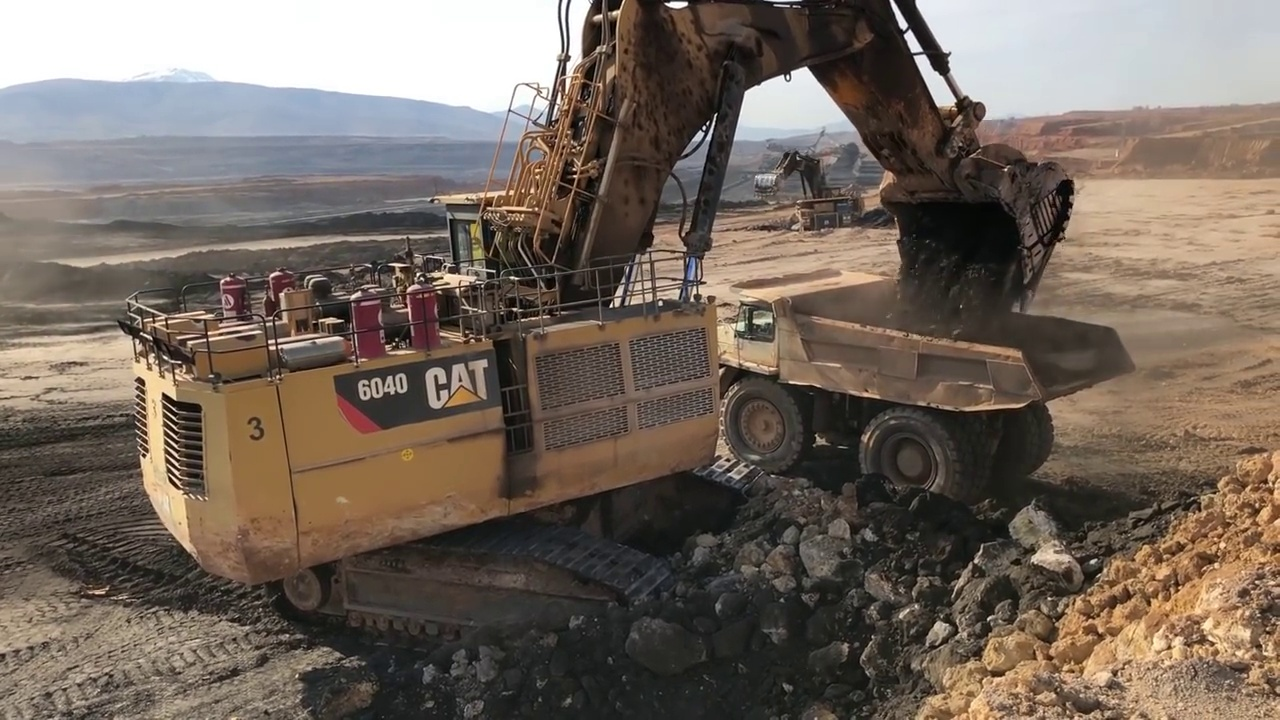dumper: (725, 265, 1134, 509)
excavator: (121, 1, 1073, 641), (753, 151, 866, 228)
